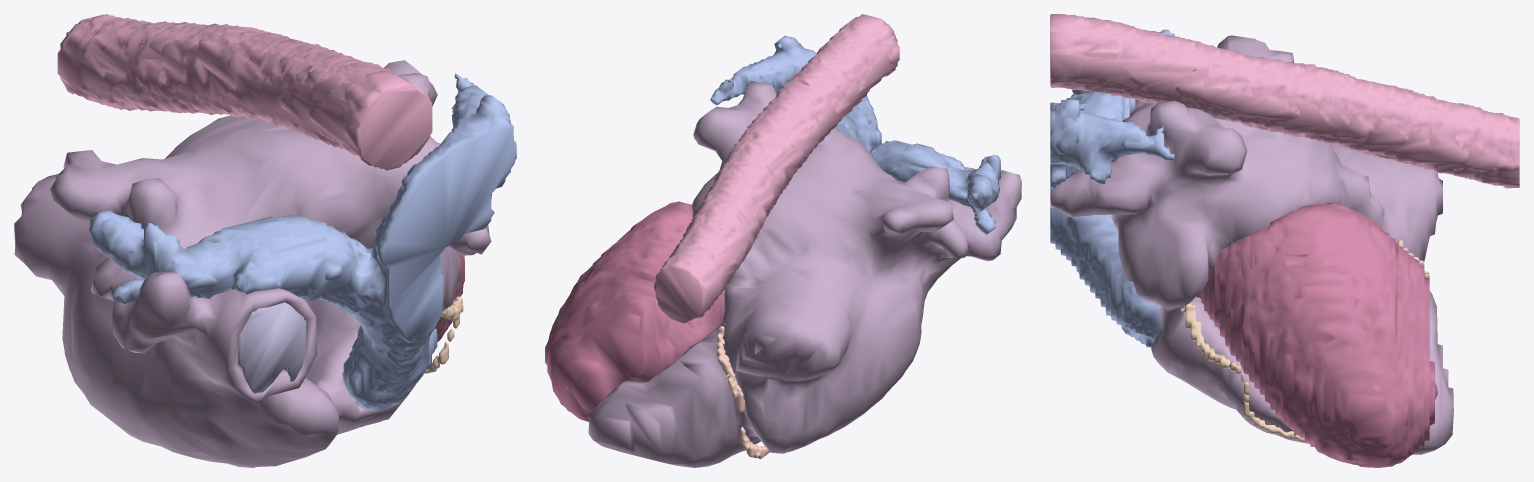
3 views of the same model, side by side, from view 1: azimuth 30°, elevation 25°; view 2: azimuth 150°, elevation 25°; view 3: azimuth 270°, elevation 25° (orthographic). The views are drawn at different scales.
Parts seen in each view (by area): view 1: heart-wall, pulmonary-artery, aorta, right-atrium, left-coronary-artery, myocardium; view 2: heart-wall, aorta, myocardium, pulmonary-artery, right-coronary-artery; view 3: heart-wall, myocardium, aorta, pulmonary-artery, left-coronary-artery.
Part boxes in pixels (x1=…): heart-wall: x1=14, y1=60, x2=491, y2=467; pulmonary-artery: x1=88, y1=73, x2=516, y2=410; aorta: x1=57, y1=14, x2=432, y2=170; right-atrium: x1=238, y1=302, x2=306, y2=393; left-coronary-artery: x1=424, y1=296, x2=463, y2=373; myocardium: x1=435, y1=252, x2=464, y2=341; heart-wall: x1=588, y1=81, x2=1021, y2=467; aorta: x1=654, y1=14, x2=899, y2=323; myocardium: x1=545, y1=201, x2=724, y2=421; pulmonary-artery: x1=710, y1=35, x2=1000, y2=234; right-coronary-artery: x1=716, y1=323, x2=770, y2=459; heart-wall: x1=1050, y1=35, x2=1453, y2=454; myocardium: x1=1196, y1=202, x2=1437, y2=467; aorta: x1=1050, y1=14, x2=1519, y2=188; pulmonary-artery: x1=1050, y1=29, x2=1174, y2=347; left-coronary-artery: x1=1180, y1=302, x2=1304, y2=441.
Bounding box in the file's own units: 137 × 130 × 142.
